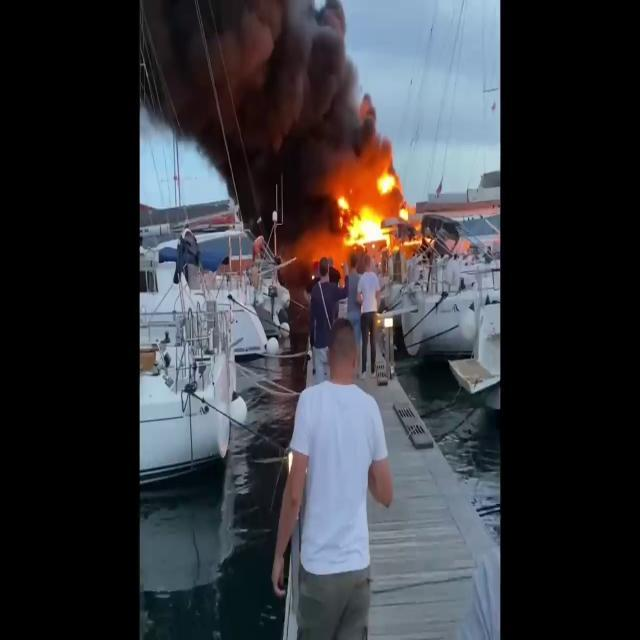Fire: (332, 166, 422, 252)
Smoke: (231, 0, 386, 202)
